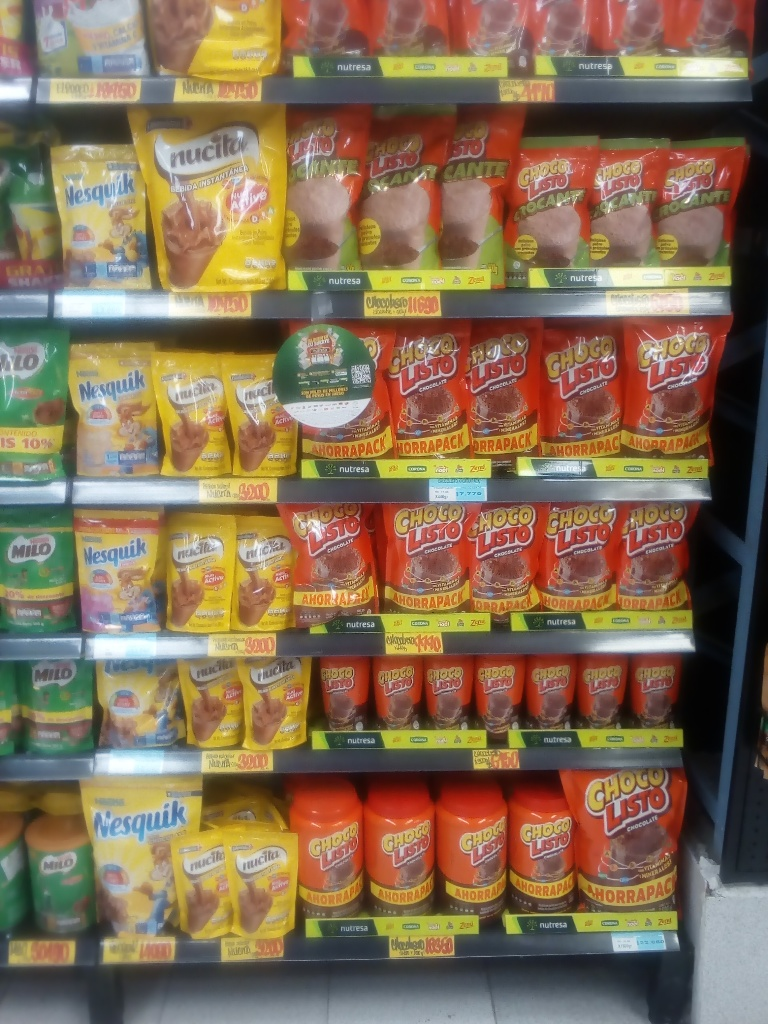COL0170102DYP25000: (655, 136, 742, 265)
COL0170102DYP50000: (438, 104, 522, 287)
COL0170103DYP1,500: (556, 767, 685, 910)
COL0170103DYP44000: (623, 316, 731, 458)
COL0170103TRR00100: (503, 788, 579, 914)
COL0170103TRR30000: (630, 652, 685, 727)
COL0170203DYP25000: (0, 509, 83, 635)
COL0170303DYP20000: (53, 149, 154, 296)
COL0170305DYP20000: (73, 506, 163, 635)
COL0170306DYP20000: (66, 346, 160, 477)
